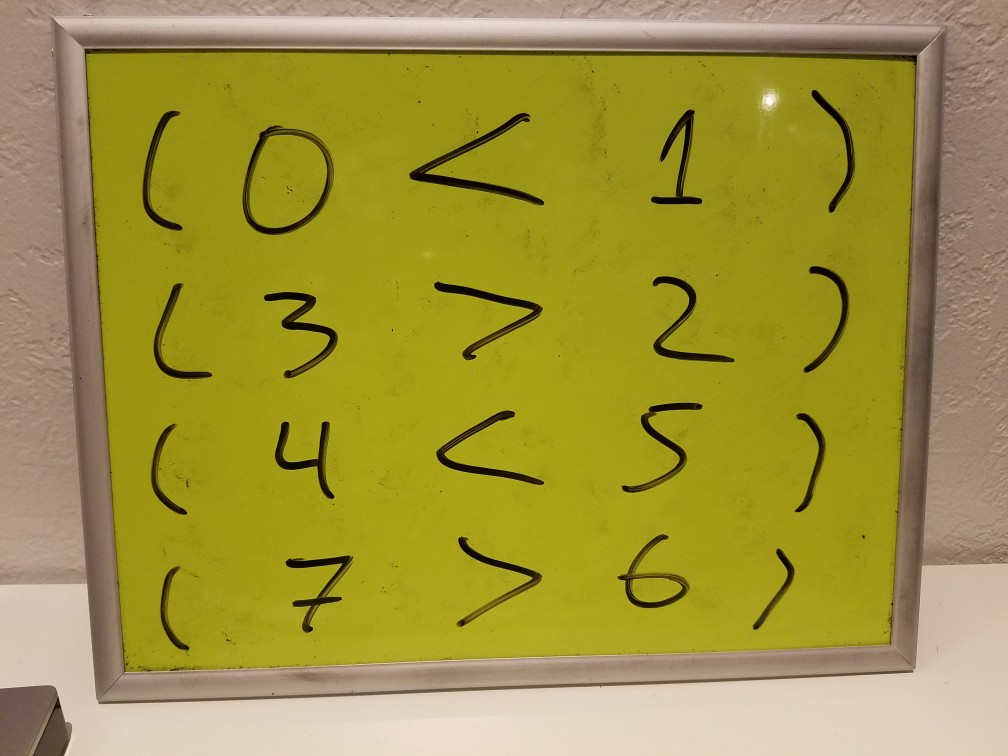(: (135, 274, 215, 395), (126, 99, 188, 240), (141, 420, 209, 524), (152, 559, 198, 660)
): (797, 77, 866, 224), (785, 253, 856, 381), (785, 403, 832, 516), (748, 541, 798, 634)
0: (230, 111, 341, 238)
1: (638, 99, 713, 218)
2: (636, 262, 748, 376)
3: (259, 275, 344, 388)
4: (263, 410, 342, 511)
5: (616, 393, 706, 504)
6: (610, 524, 695, 616)
7: (273, 540, 363, 641)
<: (401, 101, 554, 216), (429, 407, 557, 493)
>: (420, 260, 550, 369), (439, 527, 546, 630)
